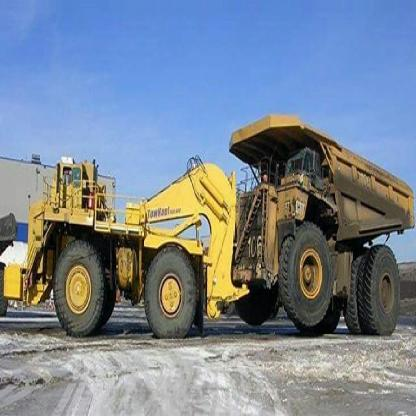dump_truck: (225, 104, 415, 338)
